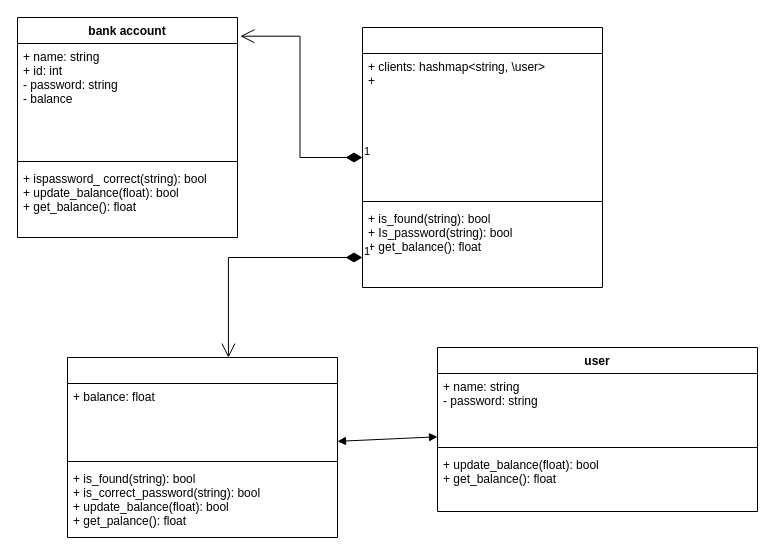
Image size: 775x558. Some labels were removed from this diagram. Here are the shapes that lost their labels. From the top down, the box of each, then its label:
(362, 26, 602, 288): bank server
(66, 356, 338, 538): ATM
